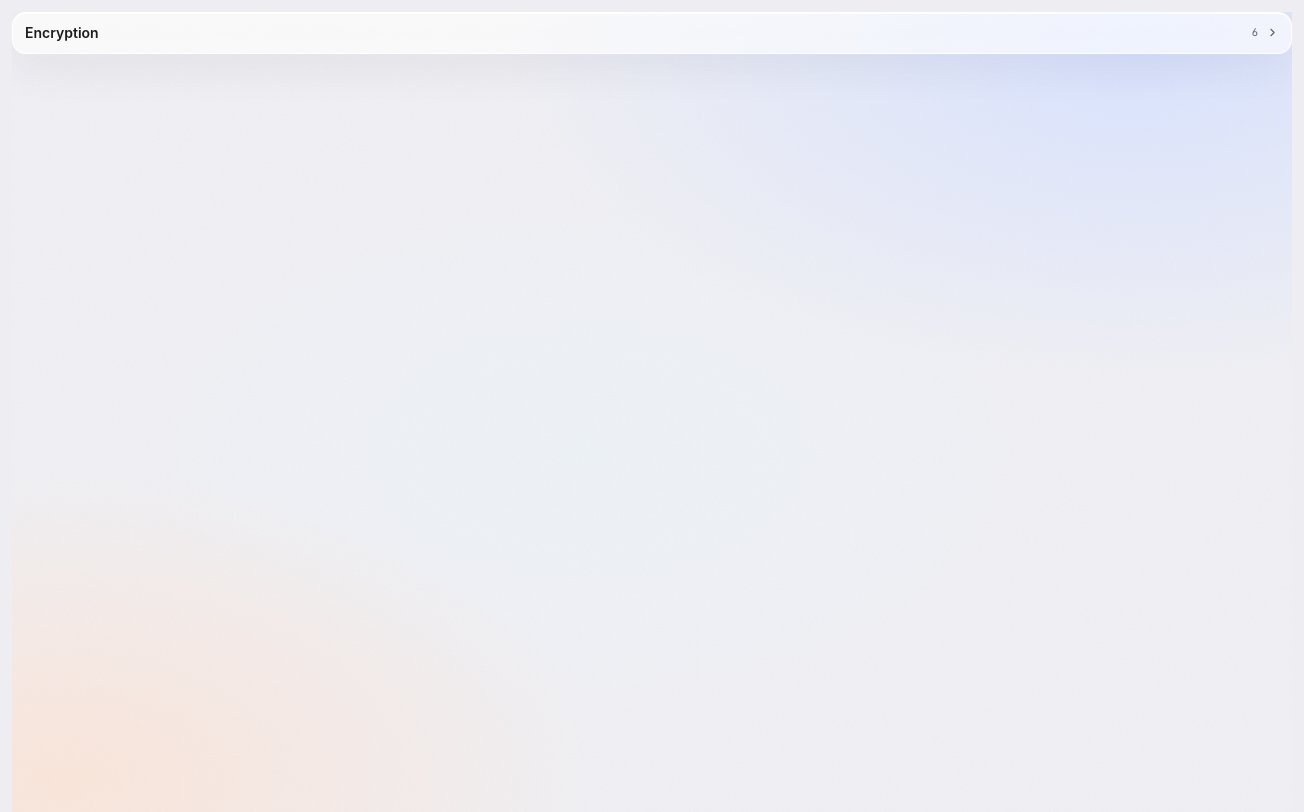
Test: Accordion › button has aria-expanded and toggles
Expected: the text "Caesar" is not shown
Step 1. Click the button "Encryption 6" → (62, 32), box x1=13 y1=13 x2=1291 y2=53
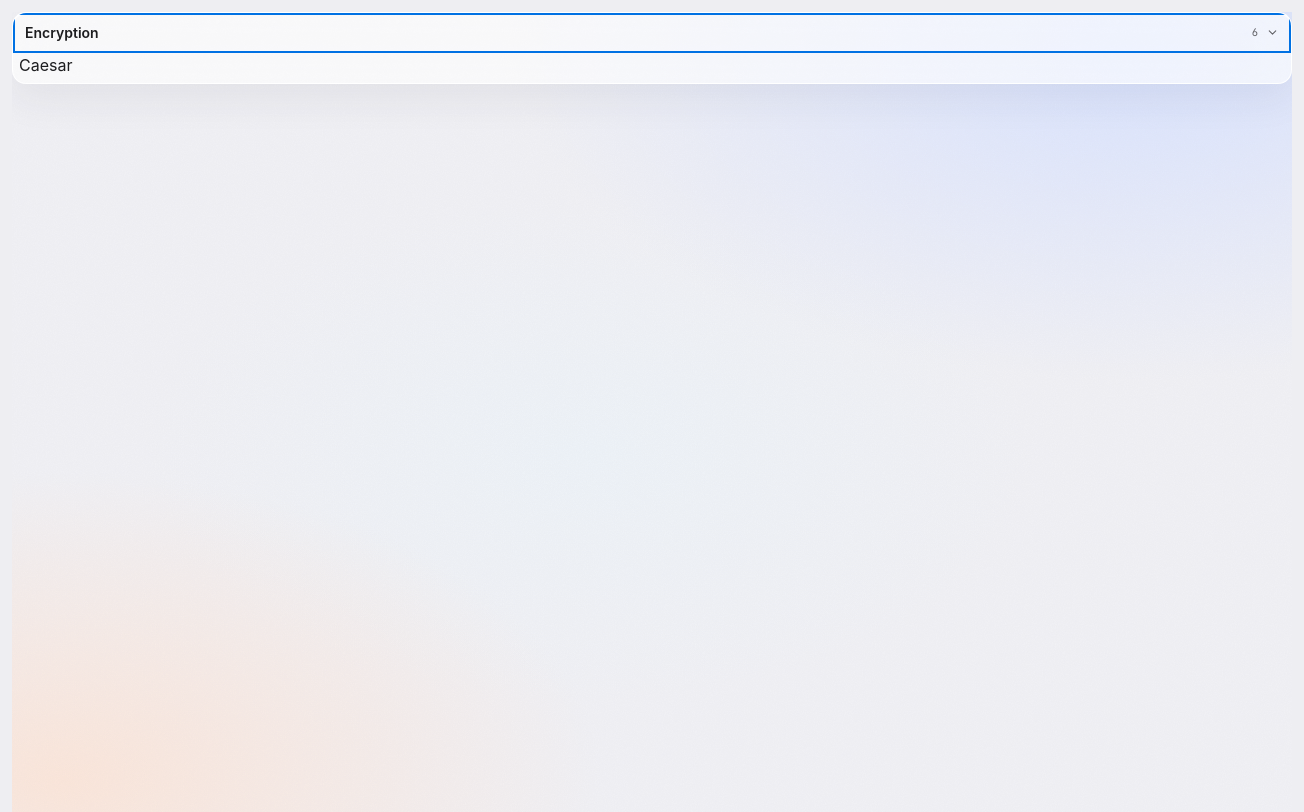
Expected: the text "Caesar" is shown, x1=19 y1=55 x2=72 y2=75
